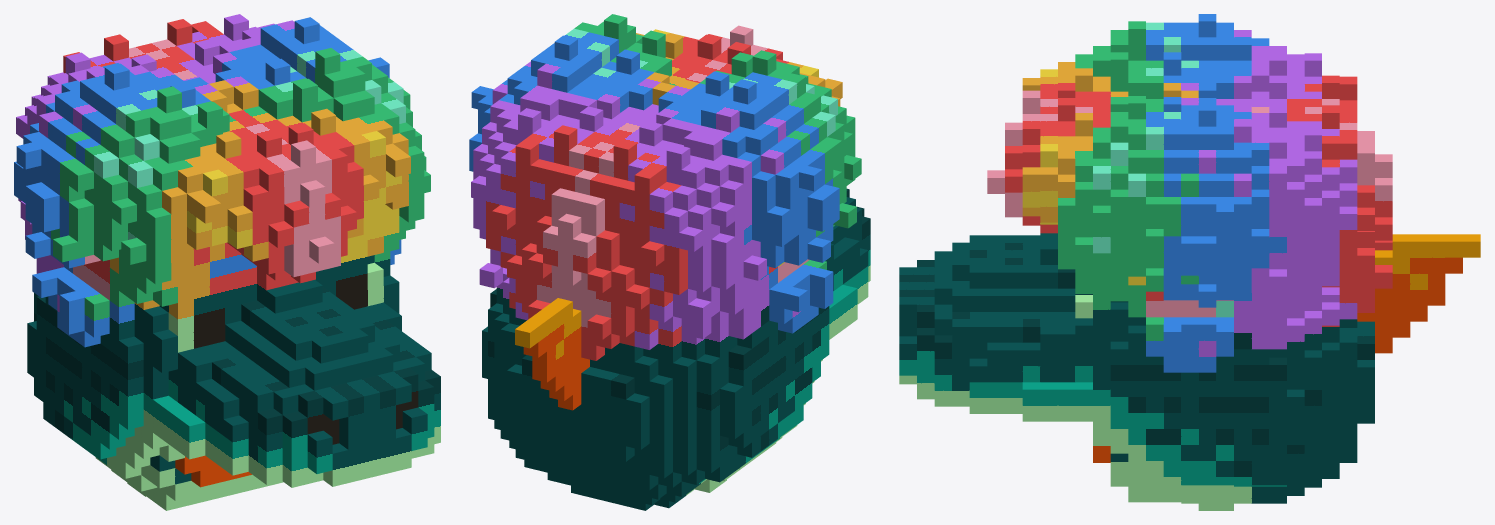
Rendered from clown wig_red glasses.gltf.
3 views of the same model, side by side, from view 1: azimuth 30°, elevation 25°; view 2: azimuth 150°, elevation 25°; view 3: azimuth 270°, elevation 25° (orthographic). The views are drawn at different scales.
Parts seen in each view (by area): view 1: C08_H_ClownW_RedG_RainbowSpec-Mesh; view 2: C08_H_ClownW_RedG_RainbowSpec-Mesh; view 3: C08_H_ClownW_RedG_RainbowSpec-Mesh.
Boxes of the visible parts, x1=… form: C08_H_ClownW_RedG_RainbowSpec-Mesh: x1=14, y1=14, x2=440, y2=510; C08_H_ClownW_RedG_RainbowSpec-Mesh: x1=469, y1=14, x2=870, y2=510; C08_H_ClownW_RedG_RainbowSpec-Mesh: x1=899, y1=14, x2=1480, y2=510.
Bounding box in the file's own units: 23 × 26 × 33.
1 material, 1 textured.
